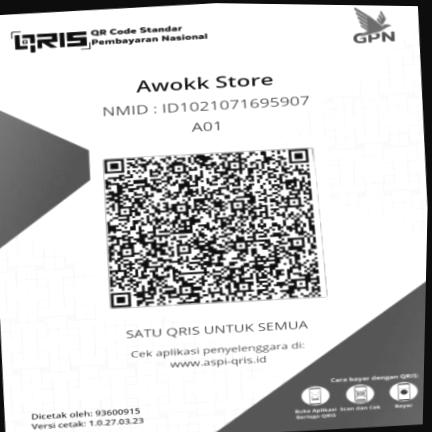Cara Pakai QRIS: (287, 370, 424, 426)
Cek Aplikasi Penyelenggara: (117, 337, 318, 376)
Dicetak Oleh: (26, 405, 145, 420)
Logo GPN: (342, 5, 407, 49)
Logo dan deskripsi QRIS: (3, 15, 215, 58)
Nama Merchant: (128, 67, 281, 96)
National Merchant ID: (92, 91, 314, 122)
QR Code: (89, 136, 341, 318)
Slogan: (119, 317, 316, 341)
Terminal ID: (186, 118, 228, 137)
Versi Cetak: (28, 415, 149, 432)
